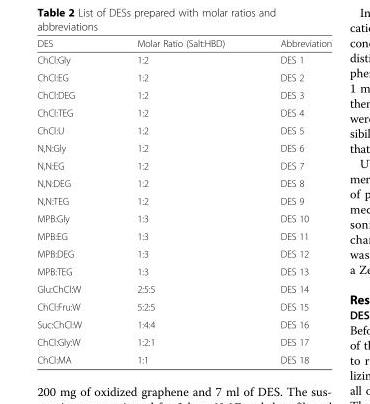table: (36, 37, 331, 364)
table column: (108, 37, 251, 364), (251, 37, 331, 364), (36, 37, 108, 364)
table column header: (36, 37, 331, 51)
table row: (36, 85, 331, 103), (36, 103, 331, 121), (36, 138, 331, 156), (36, 156, 331, 174), (36, 191, 331, 209), (36, 209, 331, 227), (36, 244, 331, 262), (36, 279, 331, 297), (36, 297, 331, 315), (36, 332, 331, 350), (36, 51, 331, 68), (36, 68, 331, 85), (36, 121, 331, 138), (36, 174, 331, 191), (36, 227, 331, 244), (36, 262, 331, 279), (36, 315, 331, 332), (36, 37, 331, 51), (36, 350, 331, 364)
